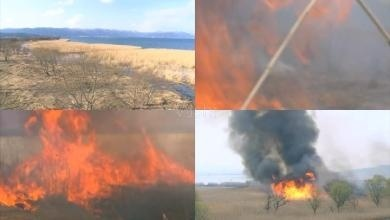fire: (0, 110, 192, 210), (194, 2, 271, 110), (267, 167, 321, 200)
